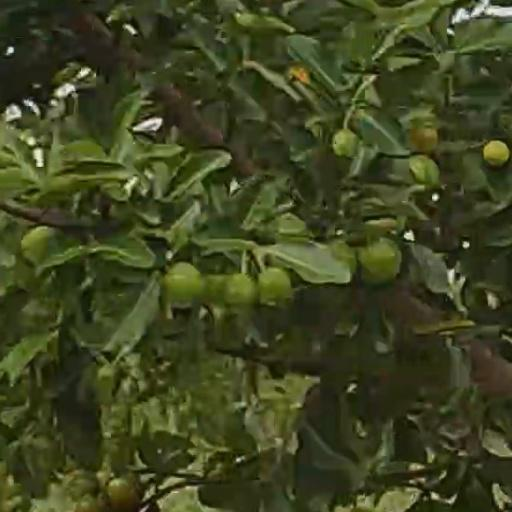acerola_verde: (362, 240, 401, 284), (164, 263, 202, 302), (105, 476, 141, 512), (257, 267, 291, 301), (226, 276, 256, 307), (335, 129, 357, 158), (485, 142, 508, 165)
acerola_vermelha: (409, 128, 438, 152)
